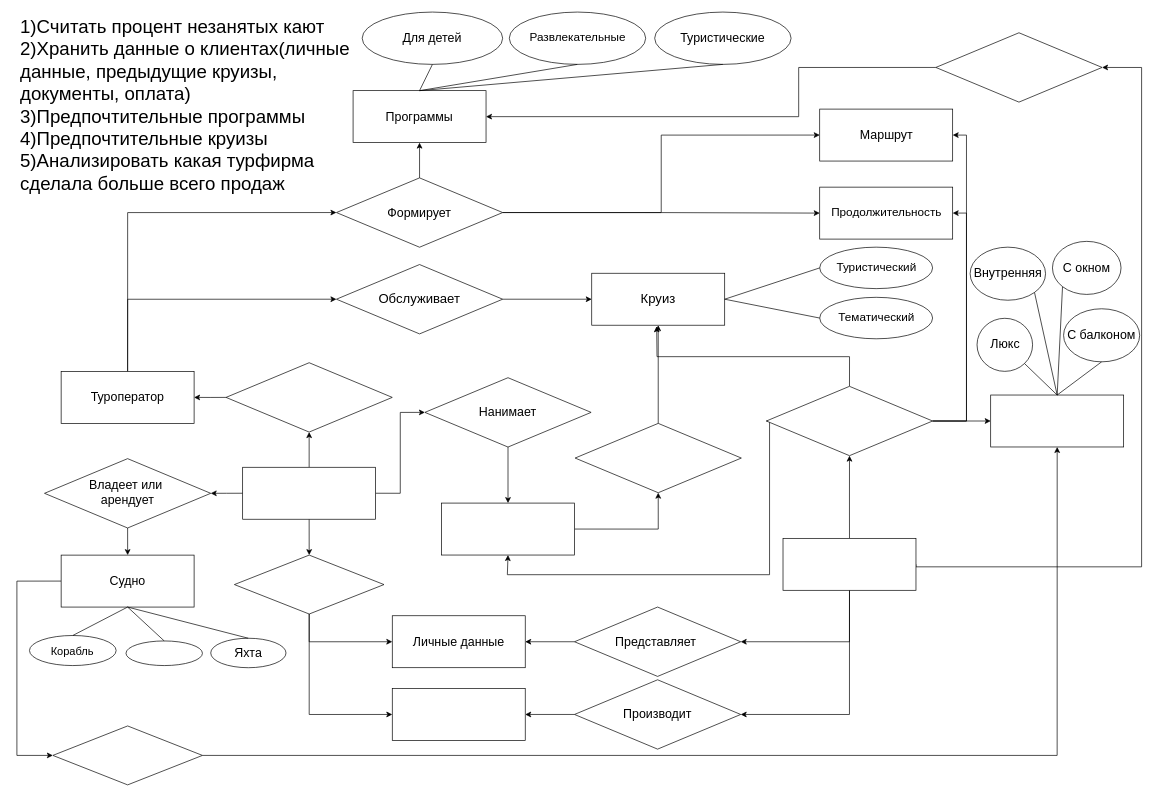
The diagram is 1159 pixels wide and 797 high, and some of its shapes have lost their labels. Here are the shapes that lost their labels. From the top down, the box of each, then its label:
(935, 32, 1102, 102): Посещает
(225, 362, 392, 432): Представляет места
(766, 386, 933, 456): Выбирает
(990, 394, 1124, 447): Каюта
(574, 423, 741, 493): Продвигает и рекламирует
(242, 467, 376, 519): Турфирма
(441, 502, 574, 555): Турагентство
(234, 554, 384, 614): Хранит
(782, 538, 916, 590): Клиент
(125, 640, 202, 666): Лайнер
(392, 688, 525, 740): Оплату
(52, 725, 202, 785): Содержит
